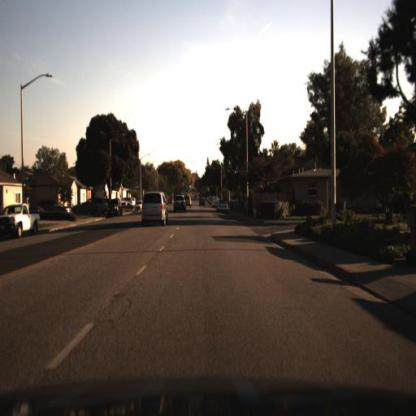car: (1, 204, 42, 243), (141, 187, 171, 231), (36, 201, 73, 218), (172, 190, 189, 216), (106, 199, 125, 219), (199, 197, 208, 206)
